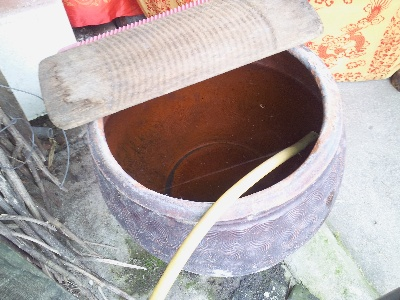bowl: (83, 34, 347, 278)
